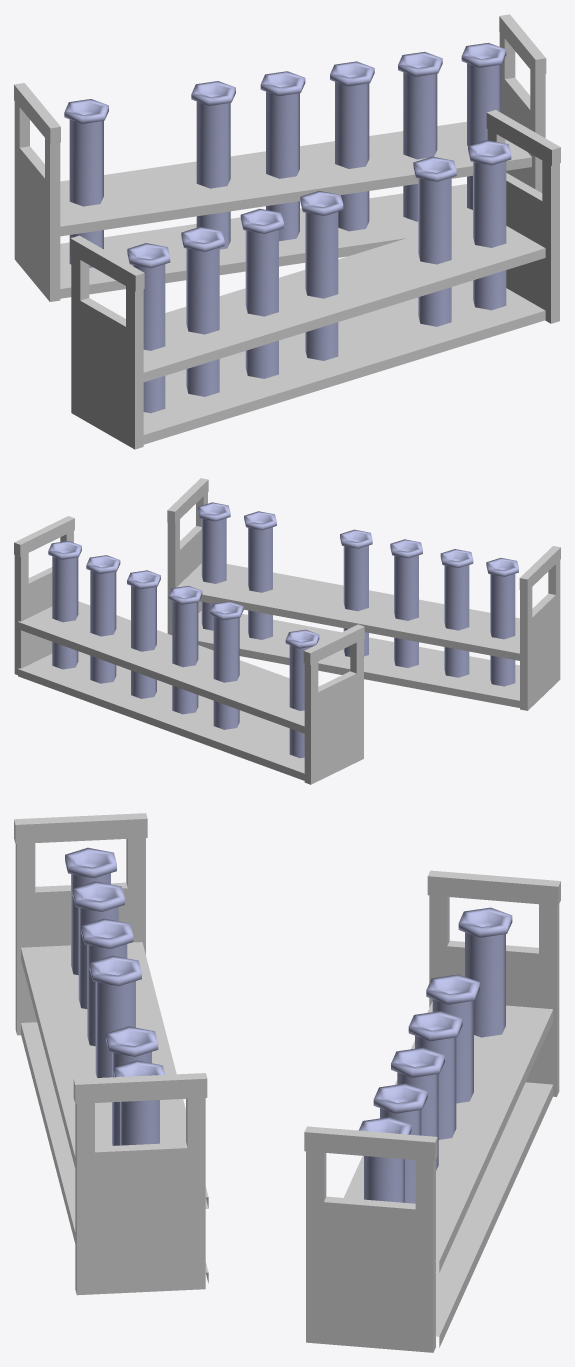
Rendered from SM_Flask.fbx.
The picture shows the model from 3 angles, top to bottom: view 1: azimuth 30°, elevation 25°; view 2: azimuth 150°, elevation 25°; view 3: azimuth 270°, elevation 25°; orthographic projection. The views are drawn at different scales.
Visible parts, largest first — view 1: SM_flask; view 2: SM_flask; view 3: SM_flask.
Part boxes in pixels (bbox=[...]): SM_flask: bbox=[14, 14, 560, 449]; SM_flask: bbox=[14, 478, 560, 784]; SM_flask: bbox=[14, 813, 560, 1352].
Bounding box in the file's own units: 15.24 × 4.54 × 10.69.
